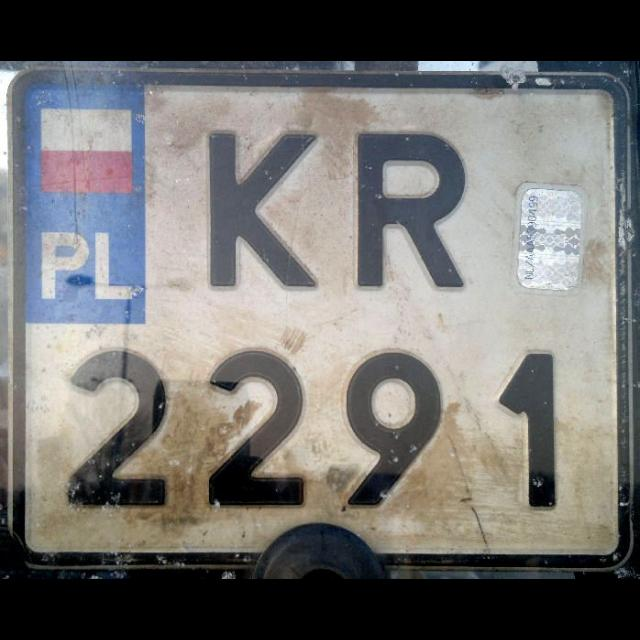pl_license_plate: (18, 78, 622, 554)
